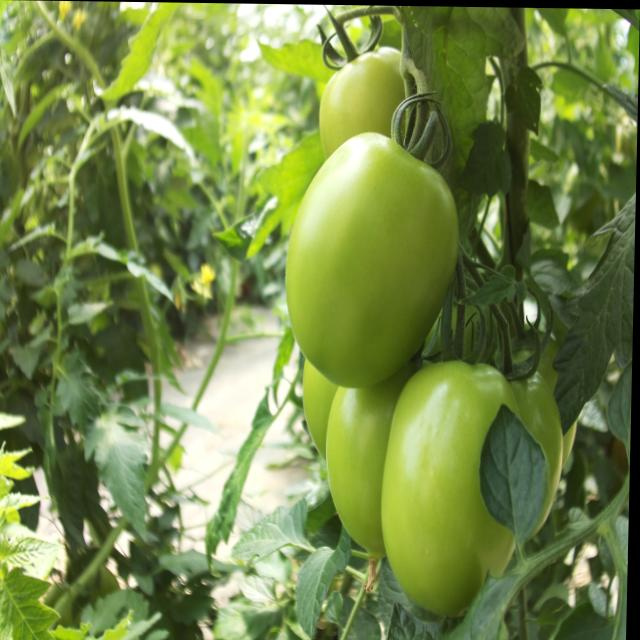kirmizi: (259, 28, 588, 611)
yesil: (264, 31, 602, 631)
